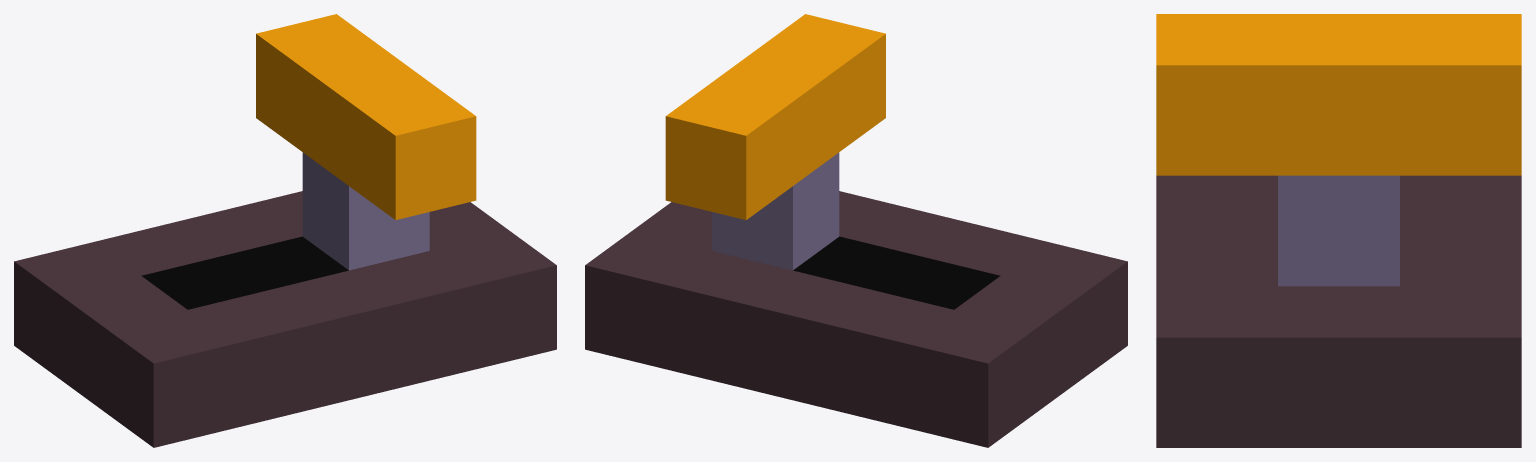
Rendered from lever_b_a_yellow_on.obj.
3 renders of one model, left to right at view 1: azimuth 30°, elevation 25°; view 2: azimuth 150°, elevation 25°; view 3: azimuth 270°, elevation 25°, orthographic. The views are drawn at different scales.
Bounding box in the file's own units: 0.5 × 0.3 × 0.3.
Materials: 1 (1 with a texture image).
